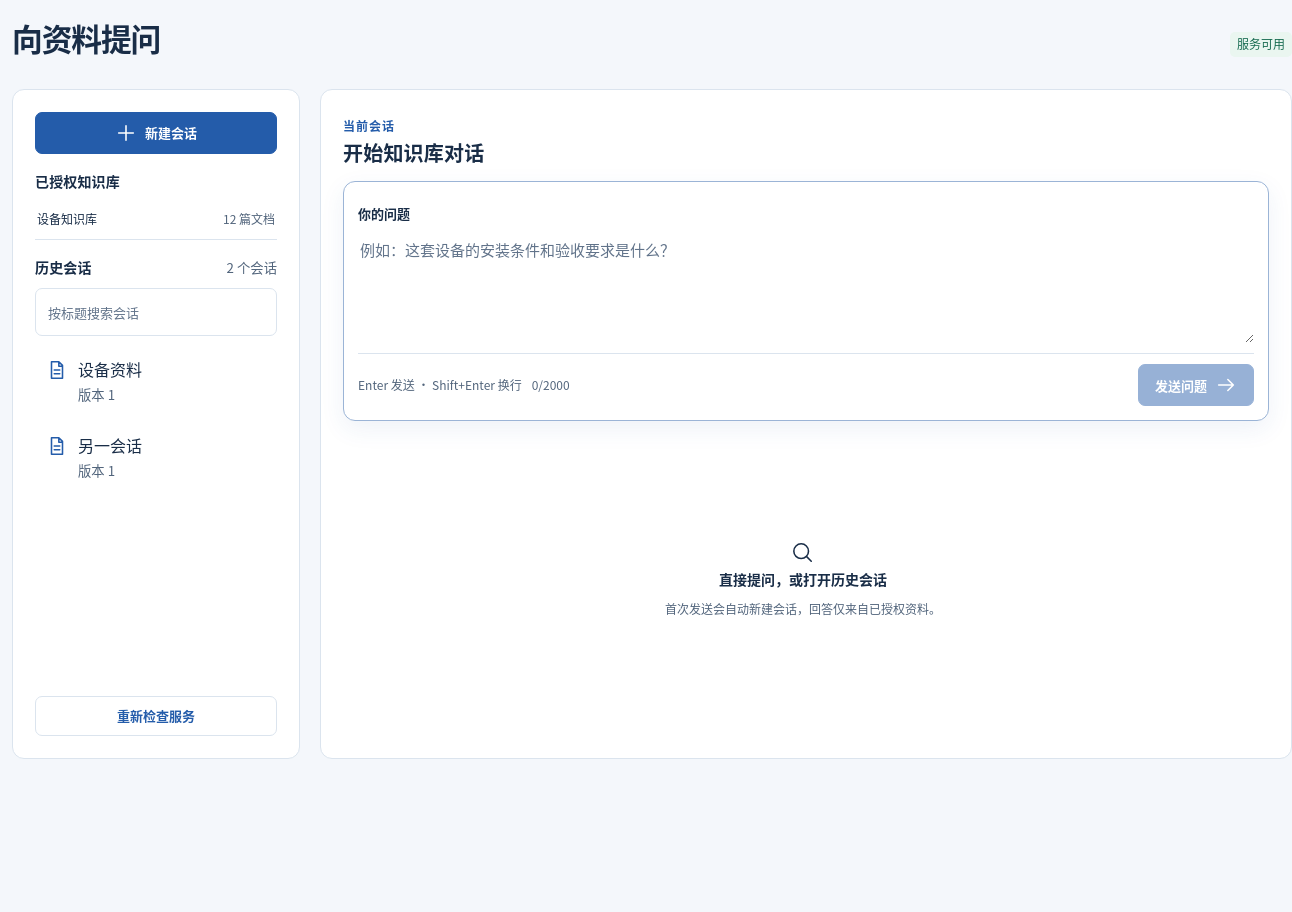
Test: ProductKnowledge › accepts a first question without a session and creates the session before sending
Expected: the heading "直接提问，或打开历史会话" is shown, top-left (719, 569), bottom-right (887, 589)
Expected: the heading "向资料提问" is shown, top-left (12, 20), bottom-right (160, 57)
In the text box labelled "你的问题": (806, 288) top-left (358, 233), bottom-right (1254, 343), type "首次问题"
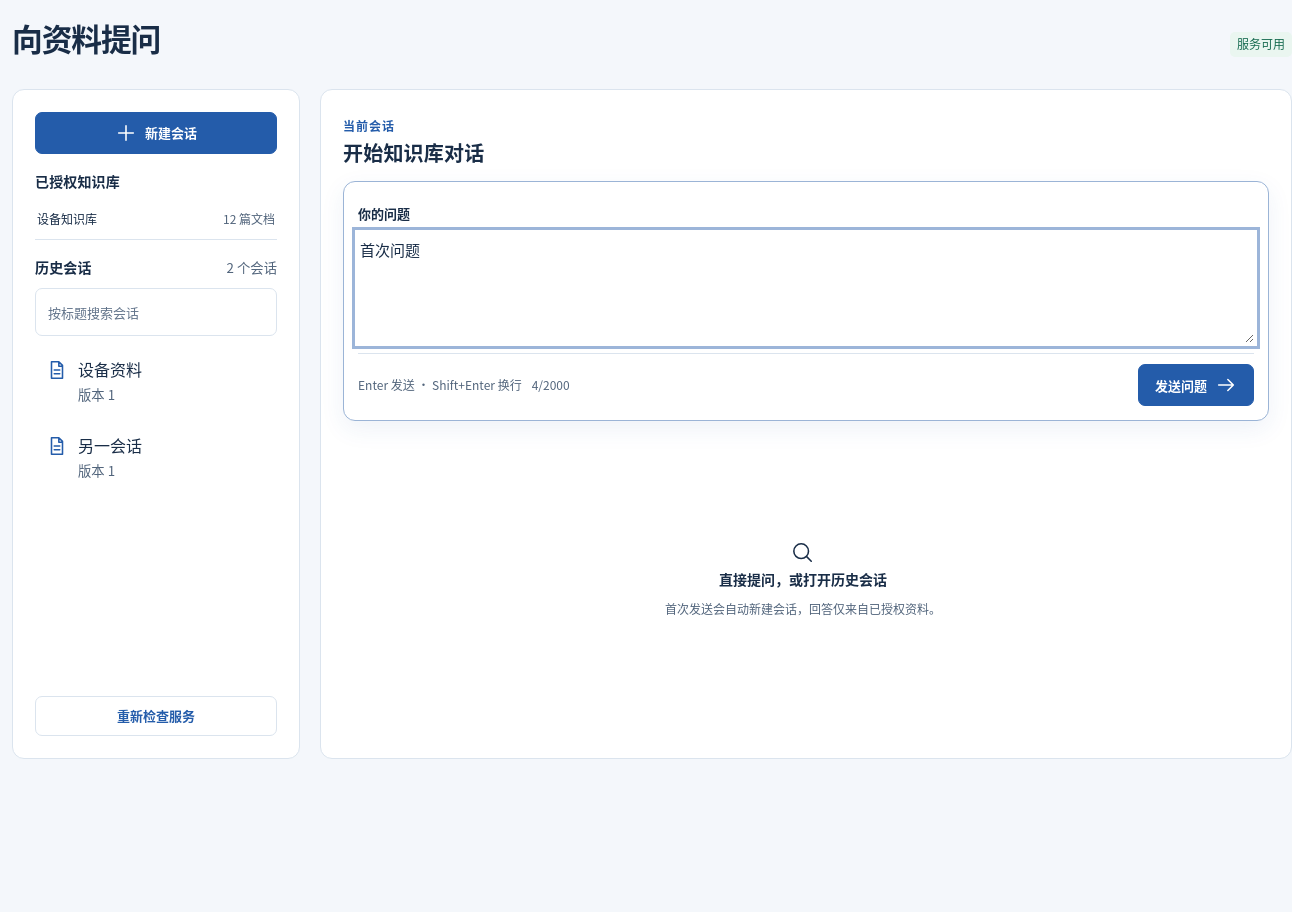
Click the button "发送问题": click(1196, 385) top-left (1138, 364), bottom-right (1254, 406)
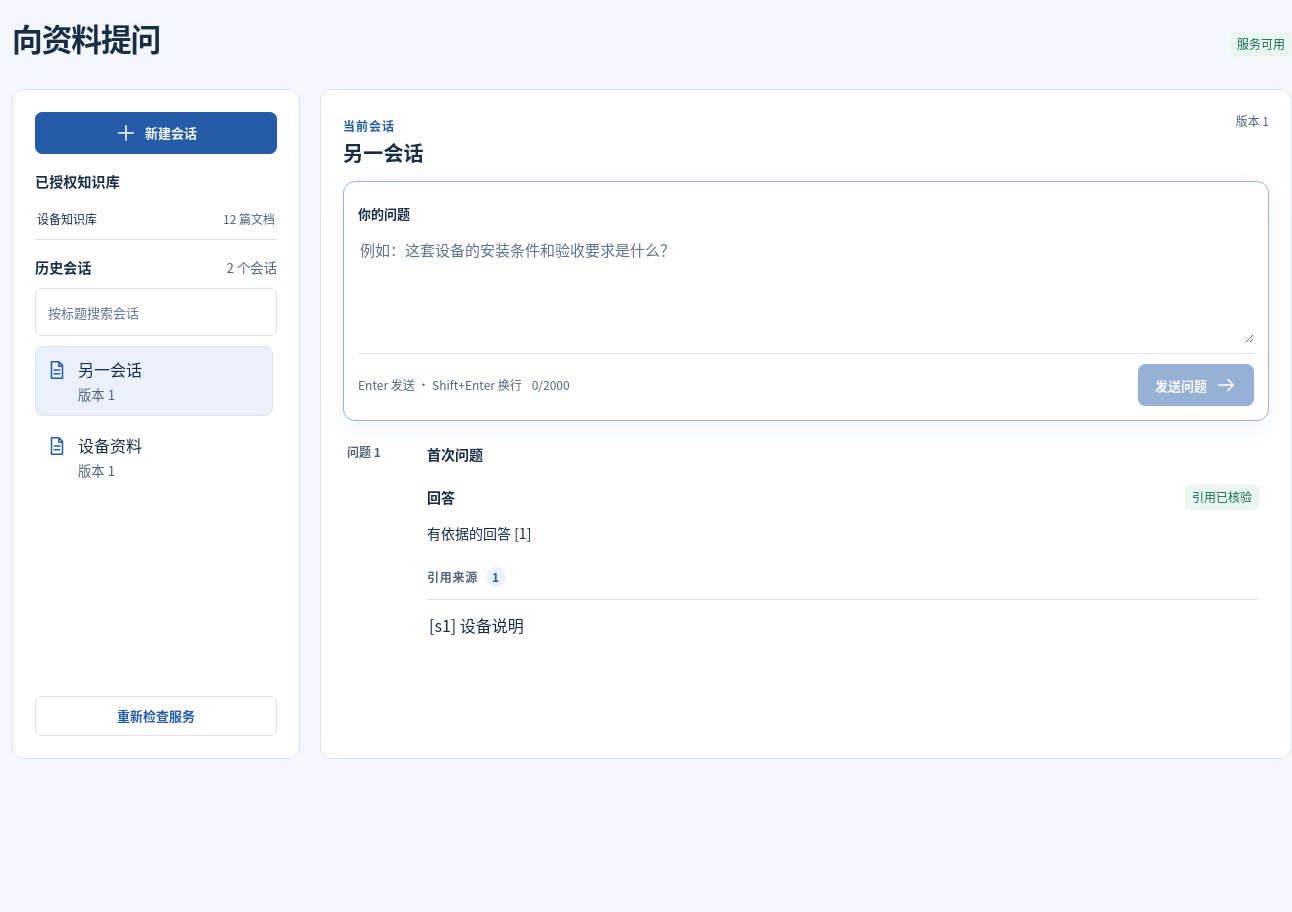
Now the text "有依据的回答 [1]" is shown, box top-left (427, 523), bottom-right (531, 543)
Now the text box labelled "你的问题" is empty, box top-left (358, 233), bottom-right (1254, 343)
